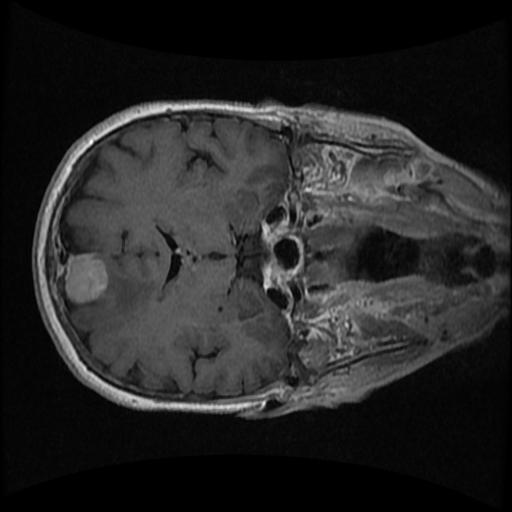meningioma: (65, 254, 107, 302)
